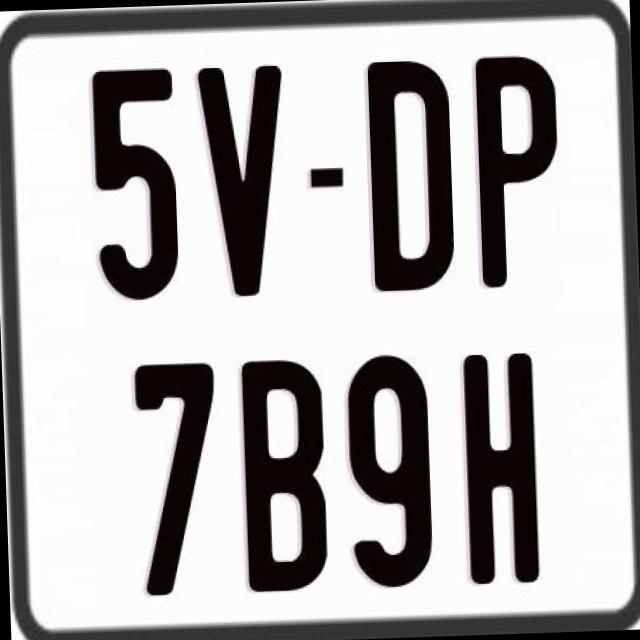5: (89, 67, 182, 301)
7: (130, 361, 224, 604)
9: (343, 353, 435, 596)
B: (238, 357, 330, 592)
D: (366, 57, 458, 294)
H: (462, 350, 546, 592)
P: (472, 52, 567, 288)
V: (192, 62, 284, 299)
